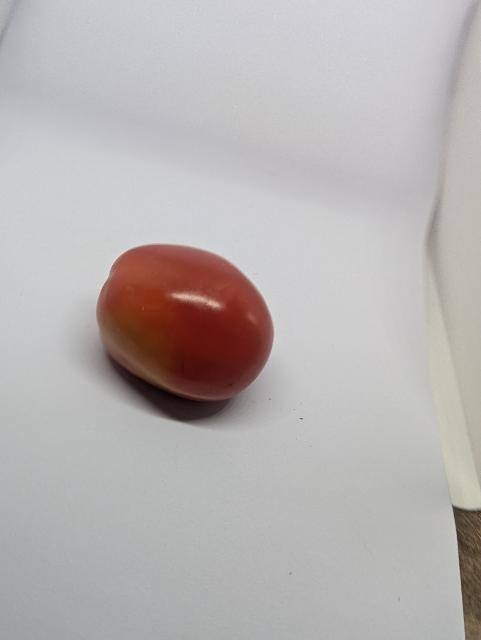red: (84, 228, 315, 432)
